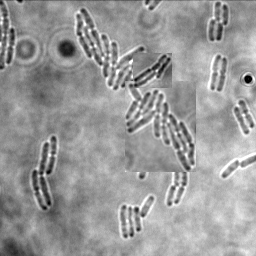Dividing: (238, 99, 255, 128), (209, 54, 222, 90), (175, 172, 189, 204), (217, 56, 228, 92), (7, 27, 17, 64)
Microcolony: (76, 7, 147, 98), (125, 81, 196, 172), (32, 135, 57, 211), (120, 195, 155, 238), (133, 53, 172, 88), (208, 1, 229, 42)
Rod: (233, 106, 251, 135), (222, 157, 240, 178), (167, 184, 177, 206), (174, 172, 183, 187)
